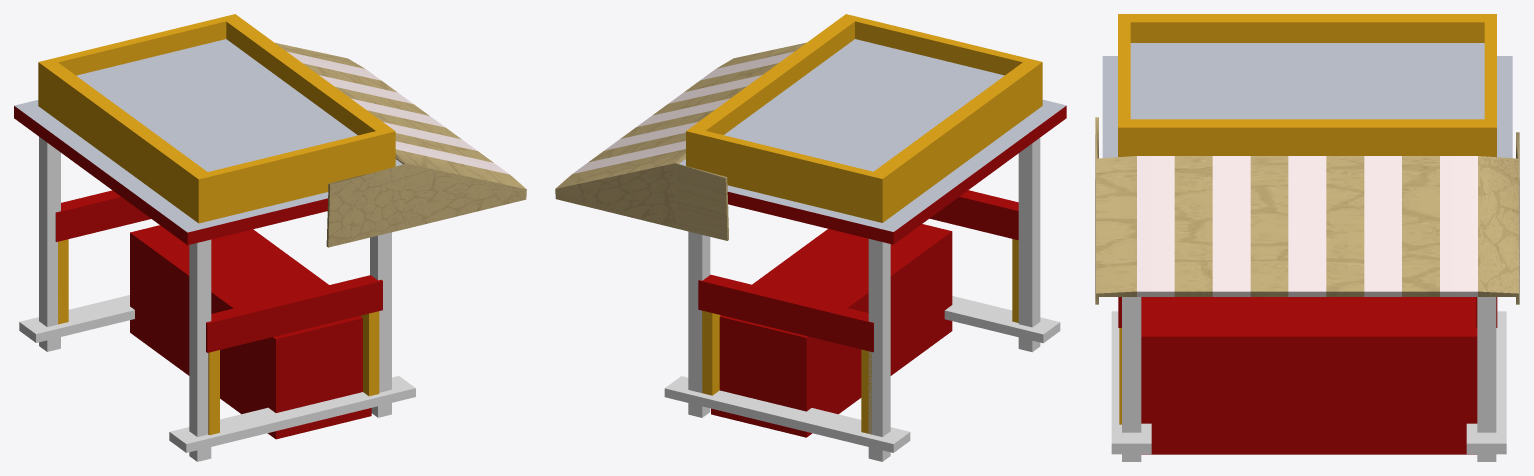
Rendered from shangdian.FBX.
3 renders of one model, left to right at view 1: azimuth 30°, elevation 25°; view 2: azimuth 150°, elevation 25°; view 3: azimuth 270°, elevation 25°, orthographic. The views are drawn at different scales.
Visible parts, largest first — view 1: Cube_5_31; view 2: Cube_5_31; view 3: Cube_5_31.
Part boxes in pixels (bbox=[...]): Cube_5_31: bbox=[14, 14, 526, 461]; Cube_5_31: bbox=[555, 14, 1066, 461]; Cube_5_31: bbox=[1095, 14, 1519, 461].
Bounding box in the file's own units: 702 × 568 × 648.
